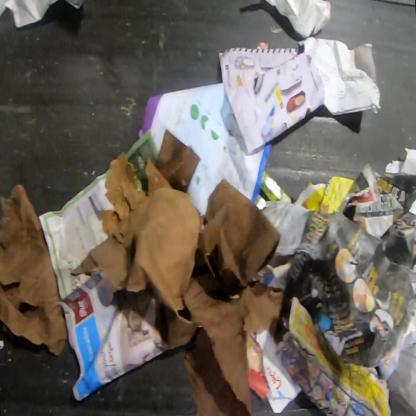cardboard: (73, 127, 286, 416), (0, 184, 70, 358)
